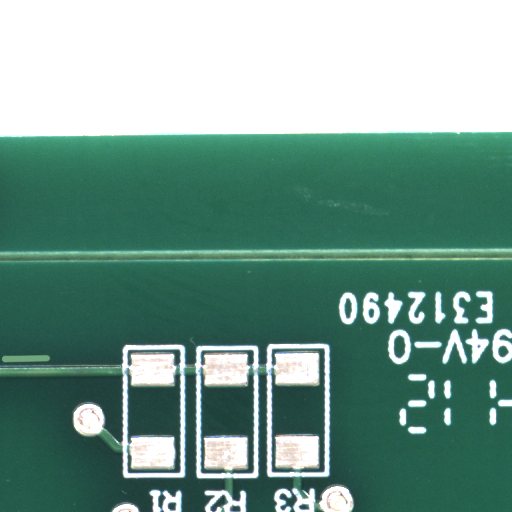Spurious_copper: (25, 358, 76, 369)
